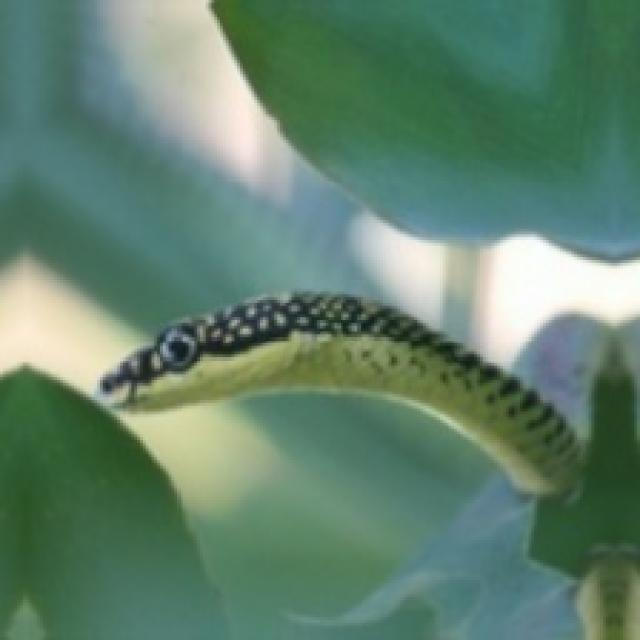paradise tree snake: (100, 291, 577, 491)
